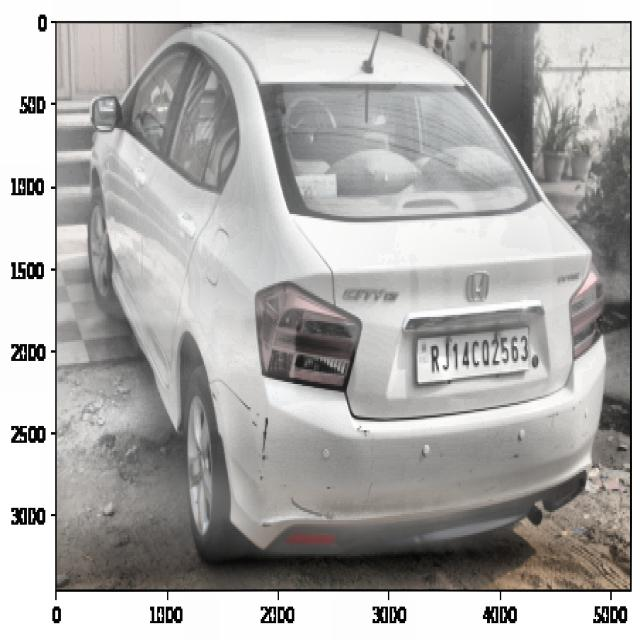license_plate: (422, 332, 532, 377)
